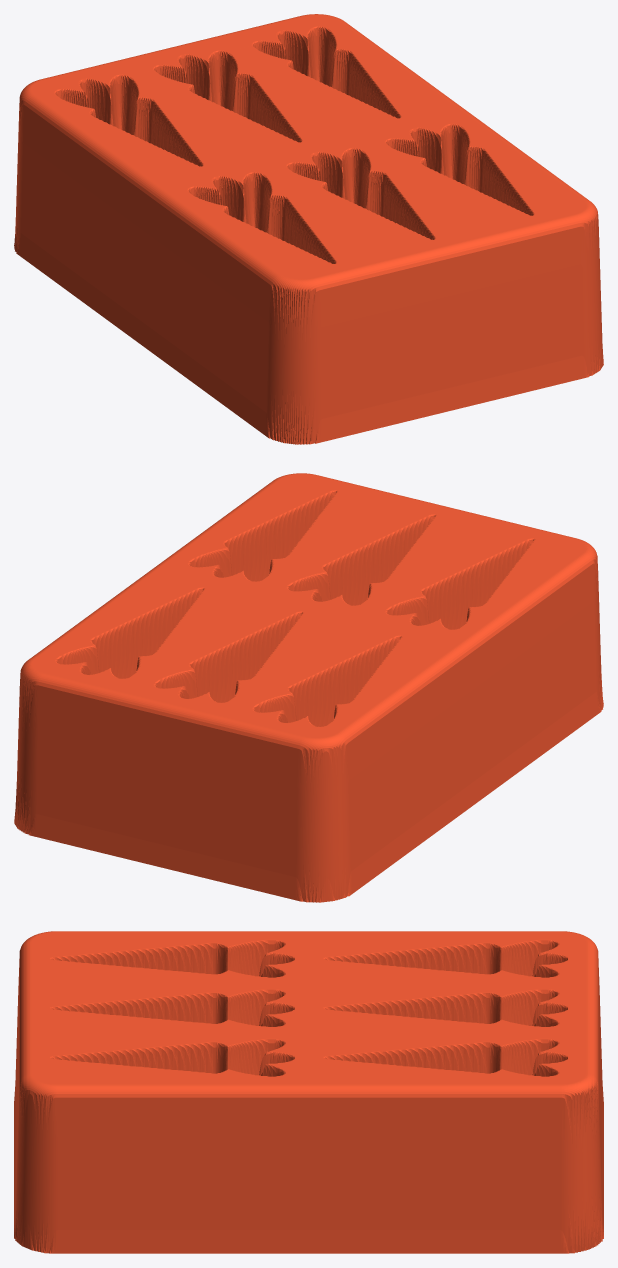
The model's file is mold.glb.
3 views of the same model, one above another, from view 1: azimuth 30°, elevation 25°; view 2: azimuth 150°, elevation 25°; view 3: azimuth 270°, elevation 25° (orthographic). The views are drawn at different scales.
Visible parts, largest first — view 1: geometry_0; view 2: geometry_0; view 3: geometry_0.
Part boxes in pixels (left/top/right/bottom): geometry_0: left=14, top=14, right=603, bottom=444; geometry_0: left=14, top=473, right=603, bottom=902; geometry_0: left=14, top=931, right=603, bottom=1253.
Bounding box in the file's own units: 0.0834 × 0.0377 × 0.1246.
